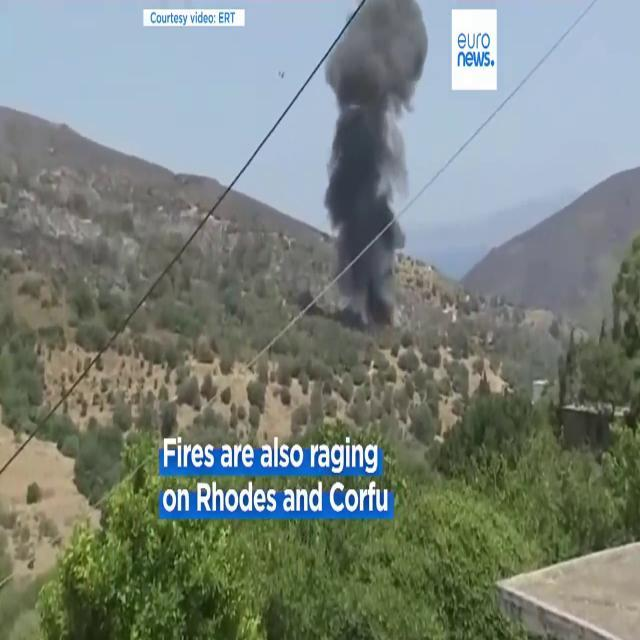Smoke: (318, 0, 432, 313)
